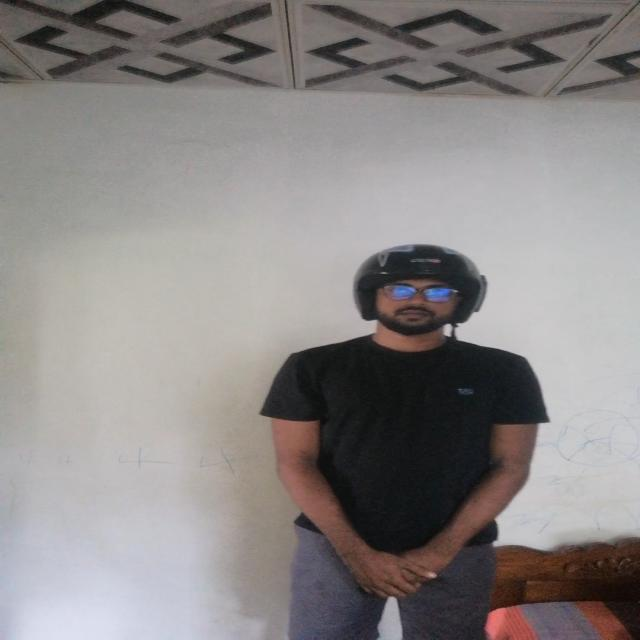Helmet_Wearer: (354, 238, 486, 359)
Person: (259, 247, 541, 639)
